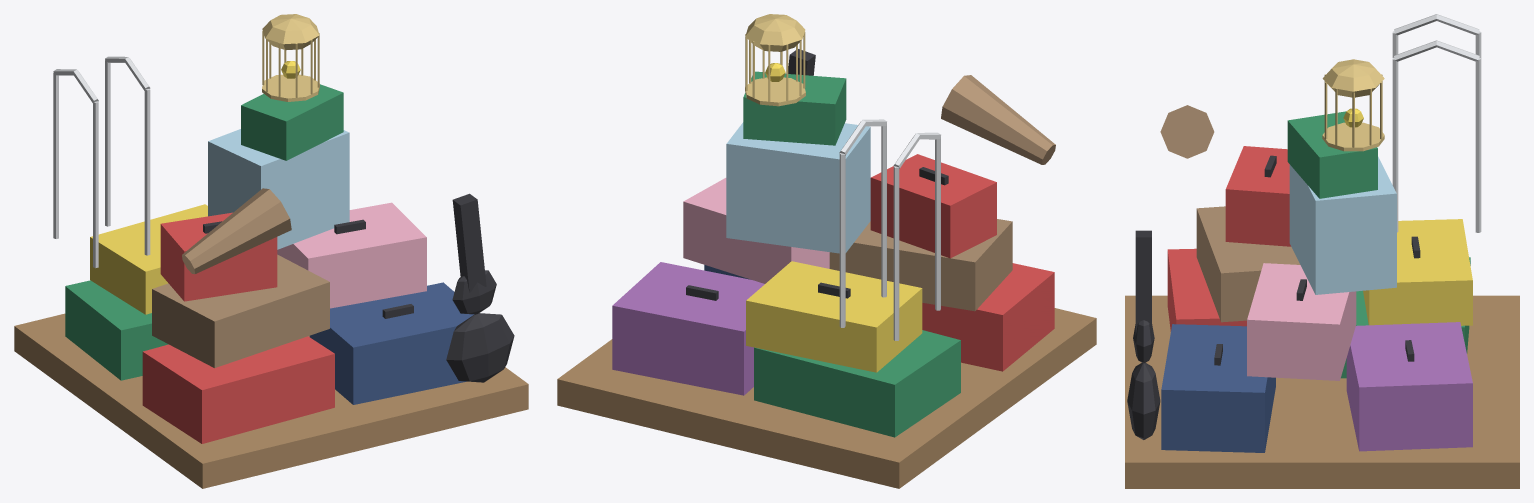
The model's file is CR_Maletas.fbx.
3 views of the same model, side by side, from view 1: azimuth 30°, elevation 25°; view 2: azimuth 150°, elevation 25°; view 3: azimuth 270°, elevation 25° (orthographic). The views are drawn at different scales.
Visible parts, largest first — view 1: CR_Maletas; view 2: CR_Maletas; view 3: CR_Maletas.
Boxes of the visible parts, x1,y1,x2,y2 form: CR_Maletas: (14, 14, 528, 488); CR_Maletas: (557, 14, 1096, 488); CR_Maletas: (1125, 14, 1519, 488).
Bounding box in the file's own units: 1.9 × 1.91 × 1.9.
